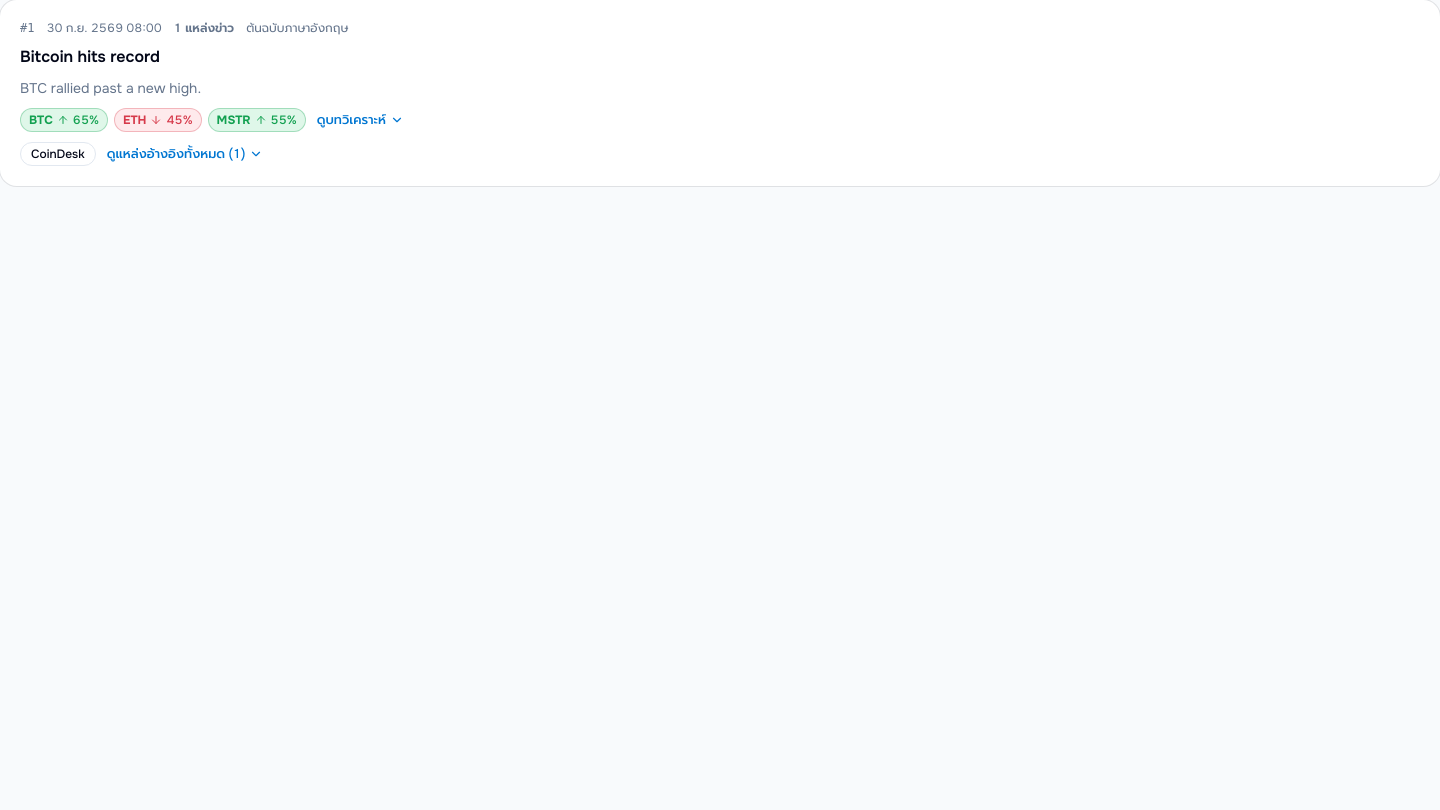
it: AI analysis on a news card › the chart side › says why an asset has no chart, and offers nothing to run without an AI key
Click the button "ดูบทวิเคราะห์" at x=360, y=120, box [312,108,409,132]
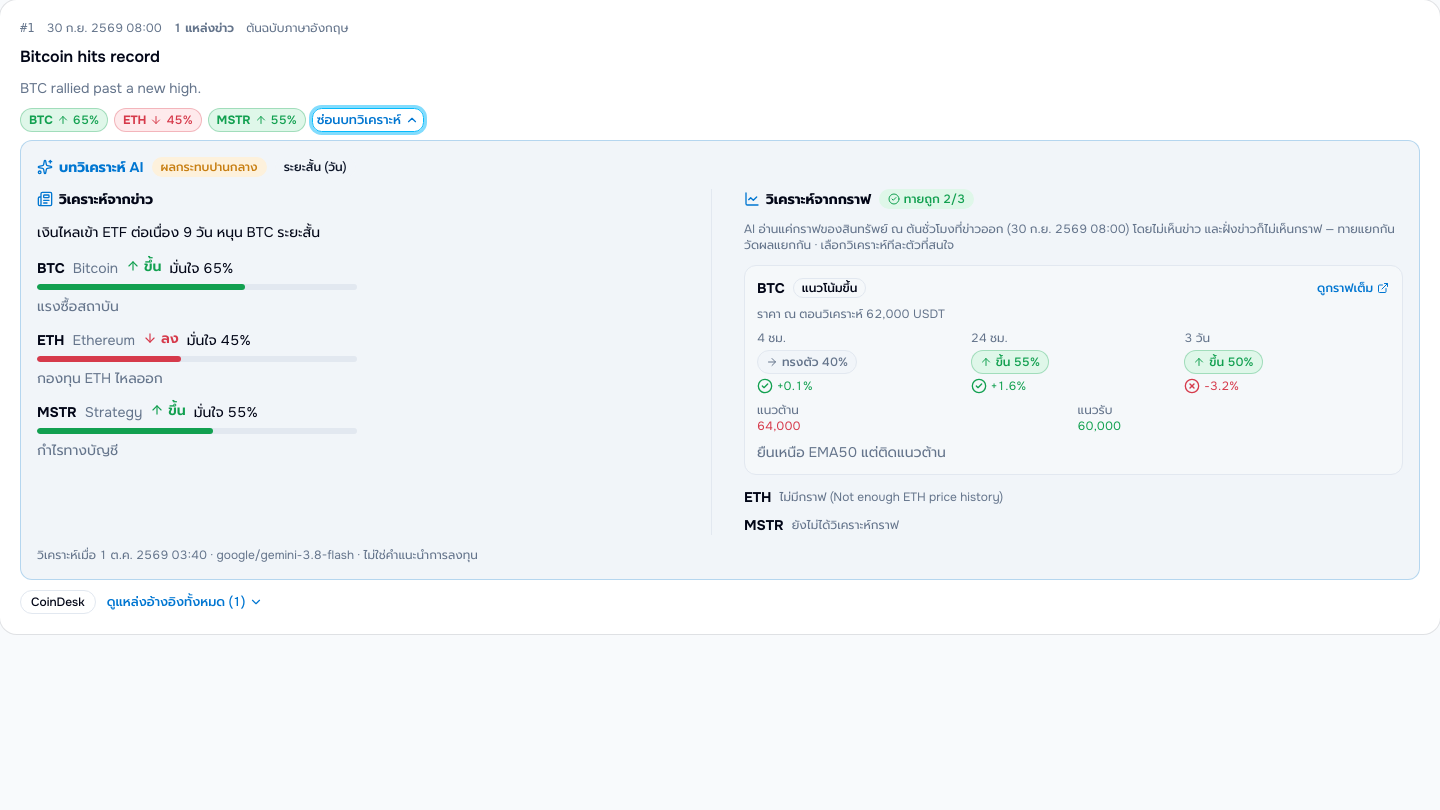
Check: the text "ไม่มีกราฟ (Not enough ETH price history)" is shown, box [779,489,1003,505]
Check: the text "ยังไม่ได้วิเคราะห์กราฟ" is shown, box [792,517,899,533]
